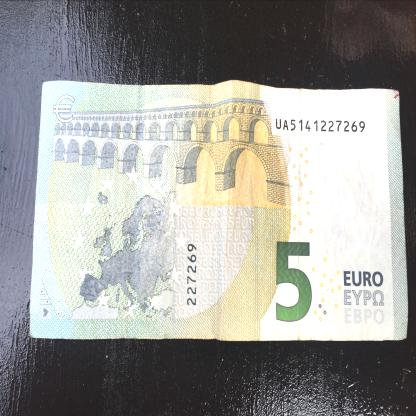euro_banknote: (32, 81, 408, 341)
